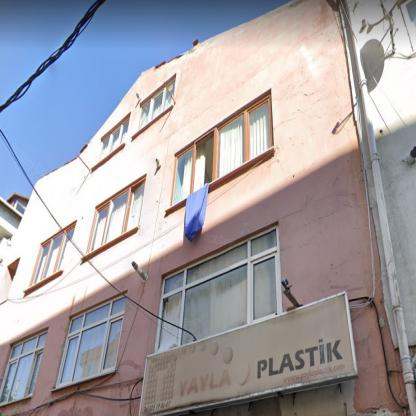window: (156, 230, 277, 350), (170, 98, 270, 204), (57, 295, 126, 384), (88, 177, 144, 250), (25, 219, 77, 287), (1, 332, 47, 402), (138, 76, 174, 131), (96, 116, 128, 160), (402, 0, 415, 50), (13, 202, 26, 214)
